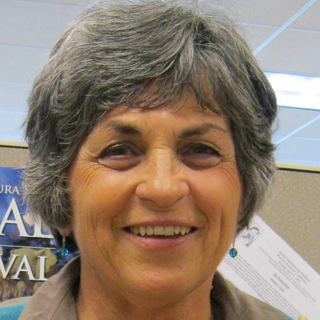eye: (174, 140, 226, 166), (94, 140, 140, 164)
